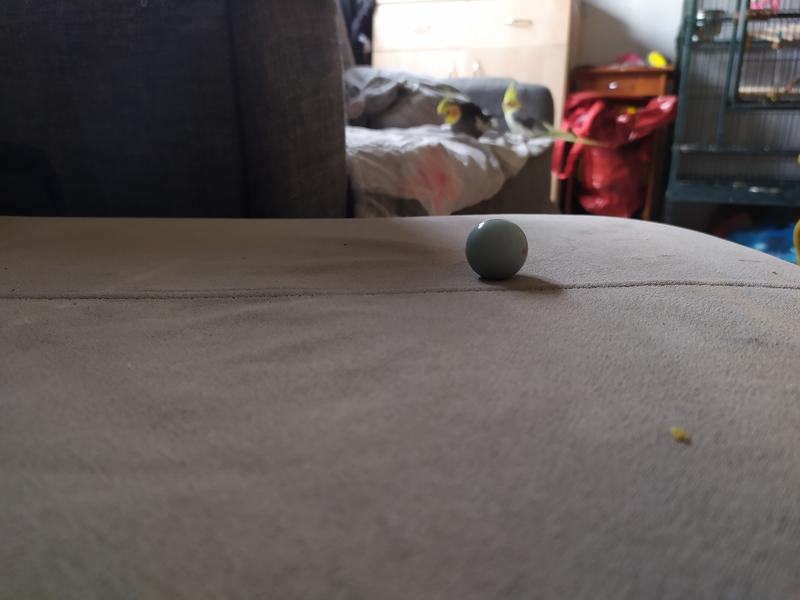Warning: (464, 217, 530, 282)
